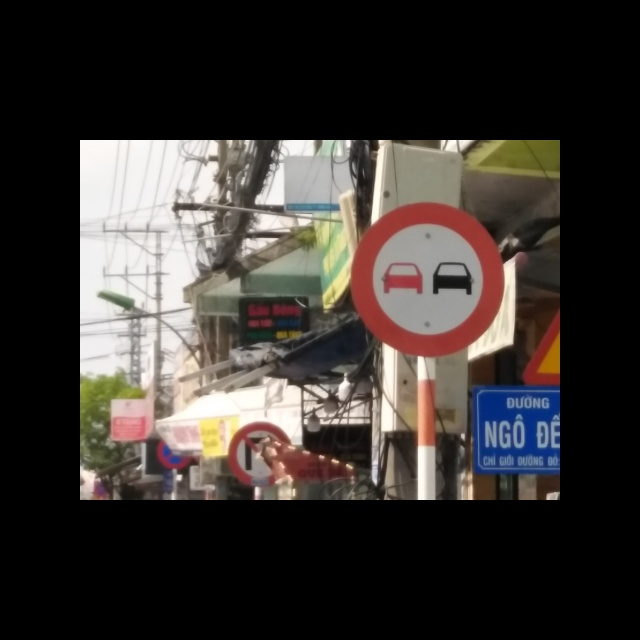Cấm vượt: (350, 200, 506, 356)
